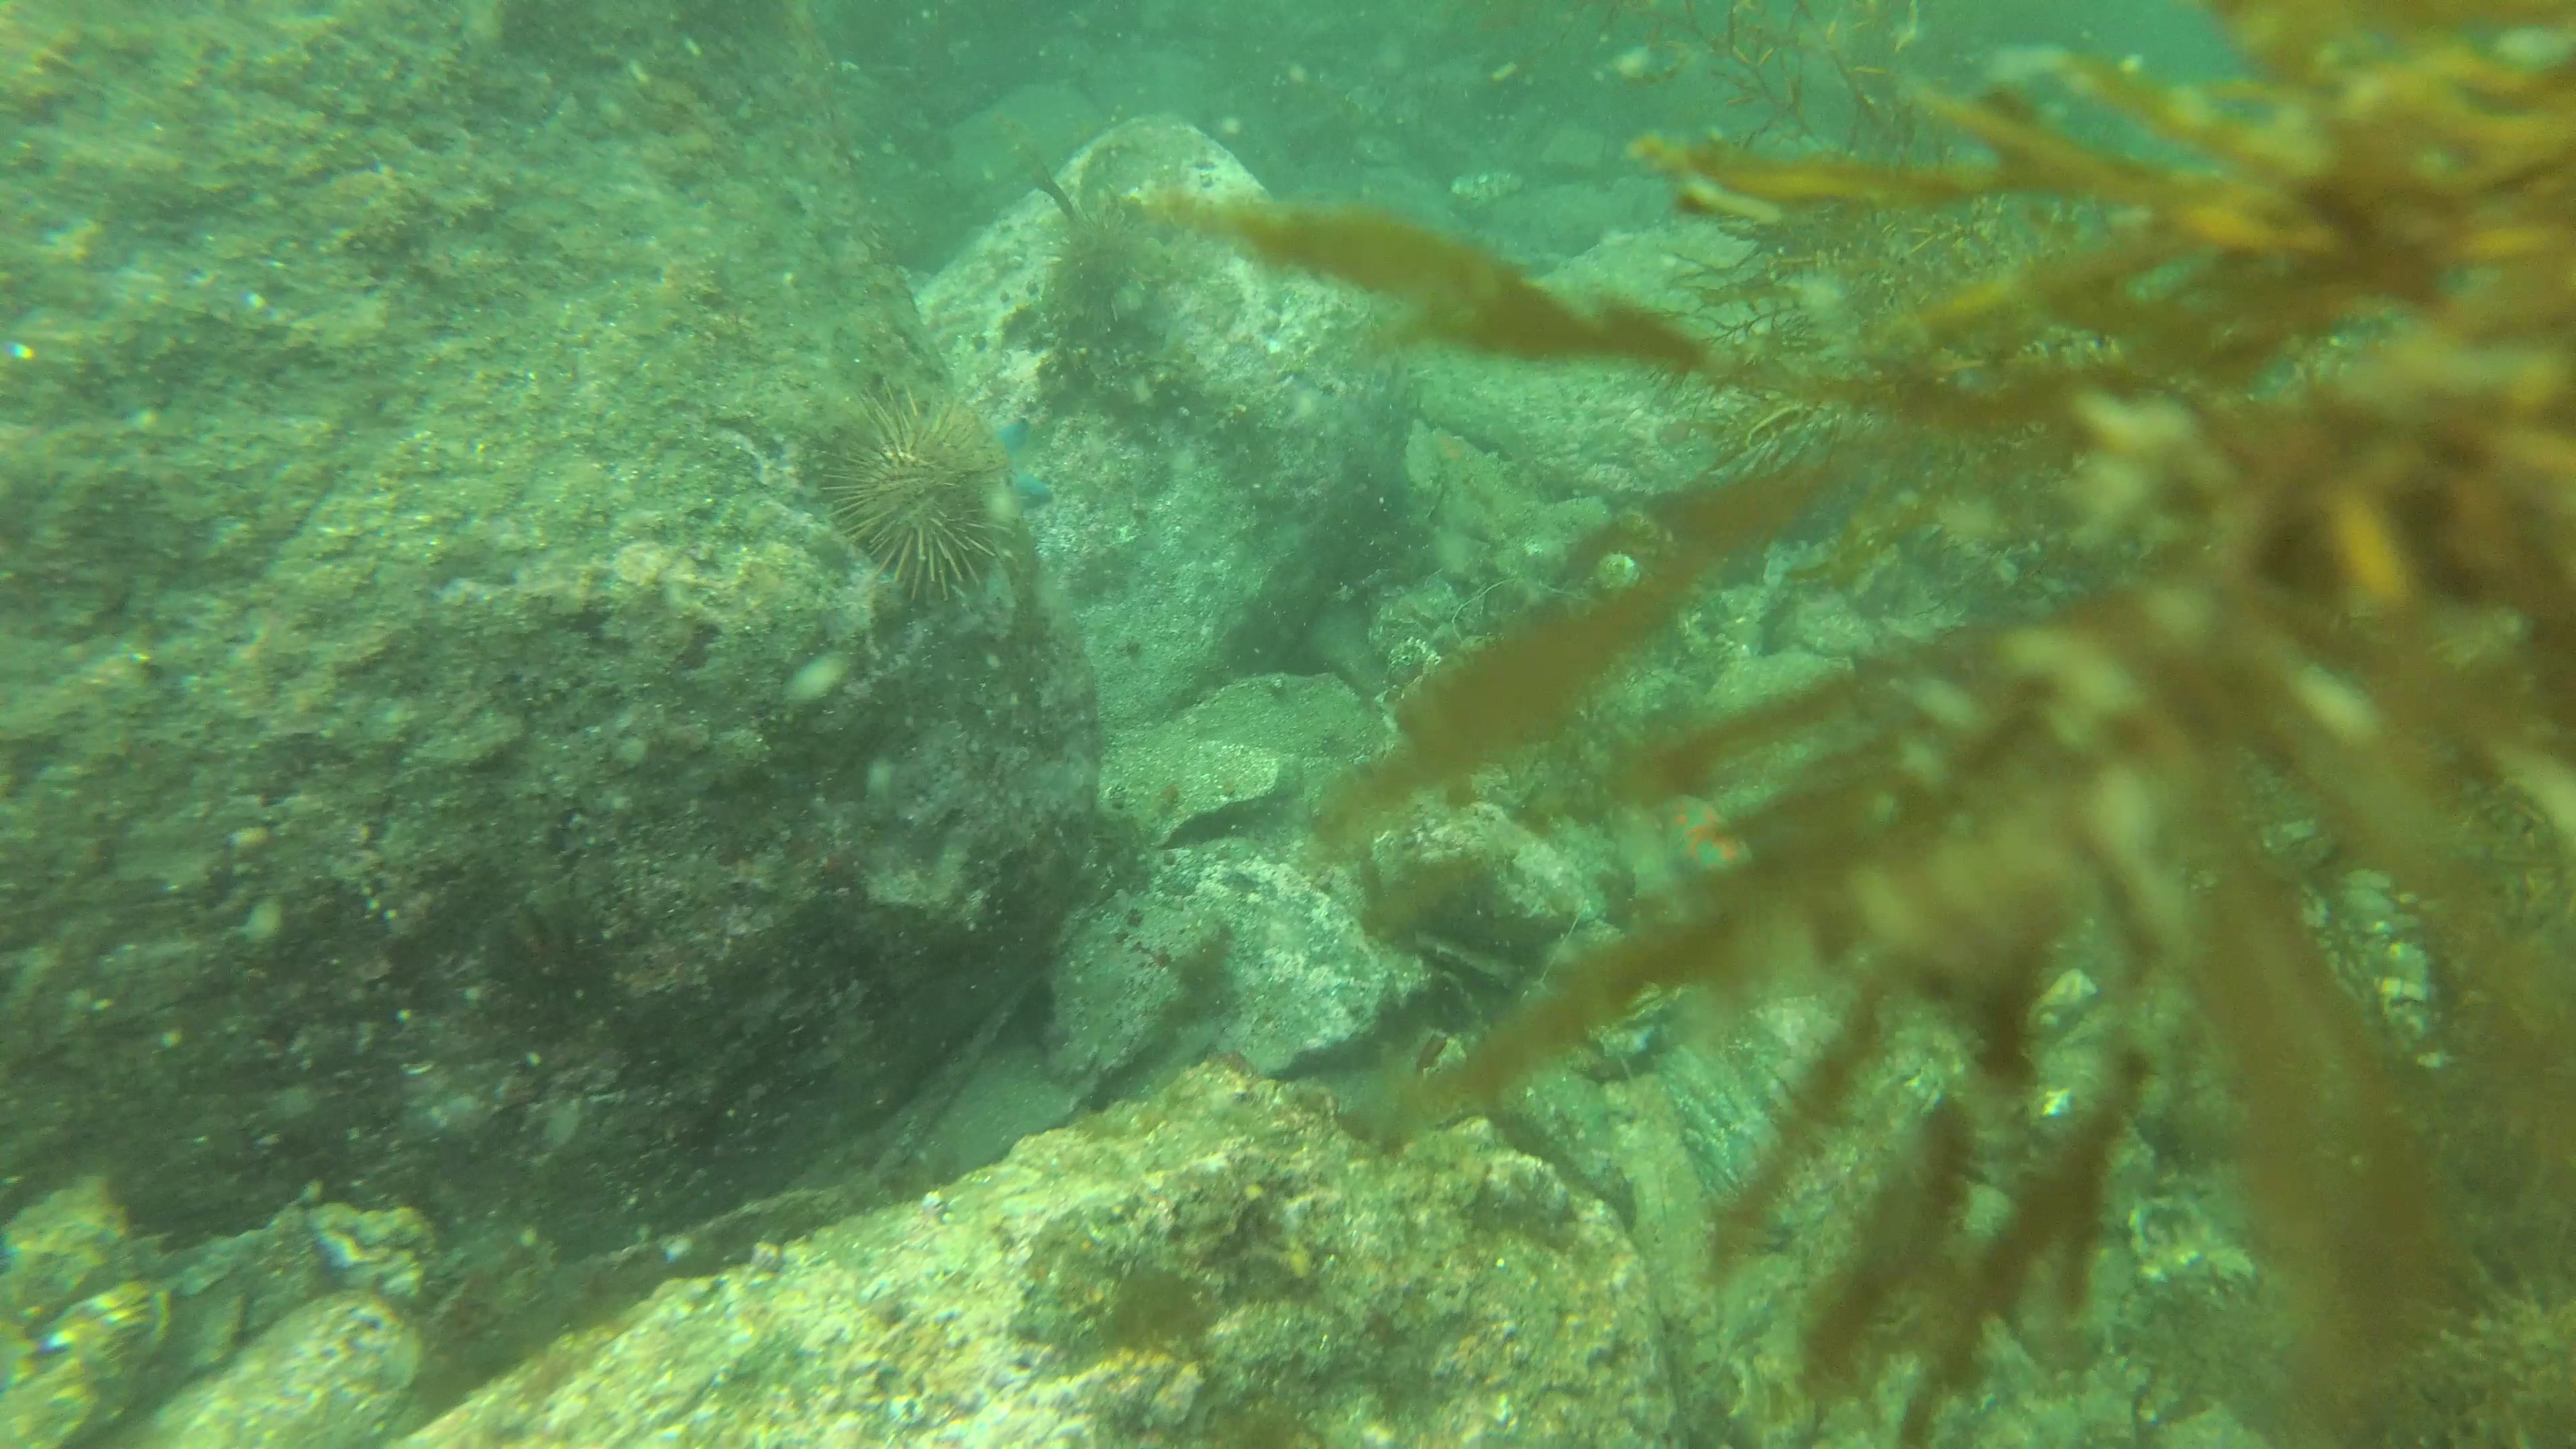echinus: (812, 375, 1003, 609)
starfish: (1660, 780, 1771, 931)
